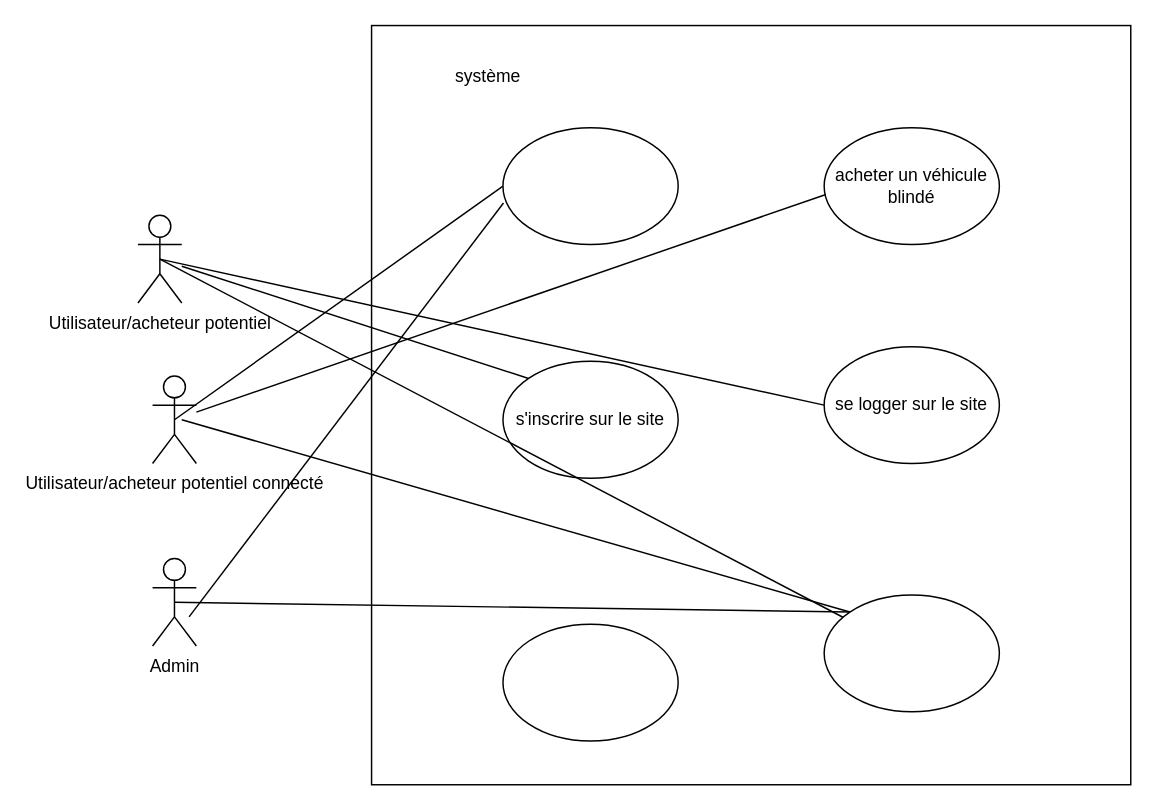
Image size: 1156x810. Some labels were removed from this diagram. Here are the shapes that lost their labels. From the top down, the box of each, then its label:
(502, 126, 678, 245): se déconnecter du site
(823, 593, 999, 712): naviguer sur le site
(502, 623, 678, 741): supprimer le compte (note: fonction "bonus")
